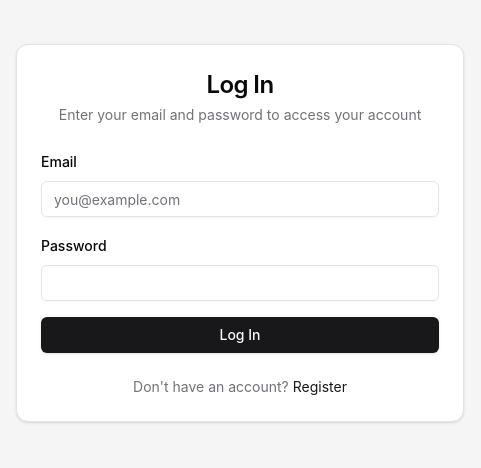
Test: LoginPage › should show validation error for invalid email format
Type "invalid-email" into the field labelled "Email" at [240, 199], box [41,181,439,217]
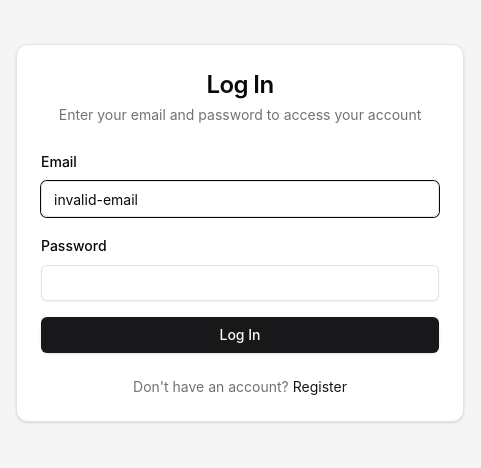
Click the button "Log In" at [240, 335], box [41,317,439,353]
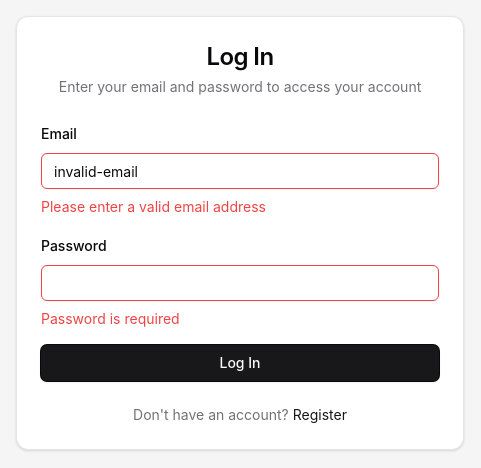
Expected: the text "Please enter a valid email address" is shown, [41,198,266,215]
